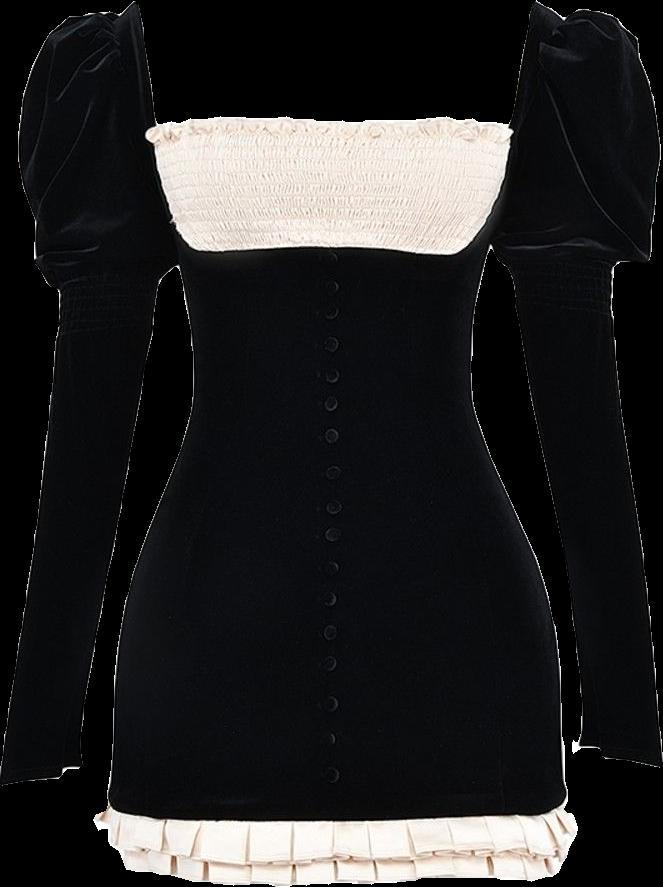Bodice: (117, 0, 564, 418)
Hemline: (89, 817, 584, 886), (109, 801, 569, 829)
Neckline: (147, 99, 521, 258), (131, 2, 540, 134)
Skirt: (94, 419, 577, 886)
Sleeve: (0, 10, 176, 785), (489, 9, 661, 766)
Sleeveline: (489, 11, 577, 246), (110, 12, 182, 264), (55, 267, 165, 291), (510, 252, 618, 270)
